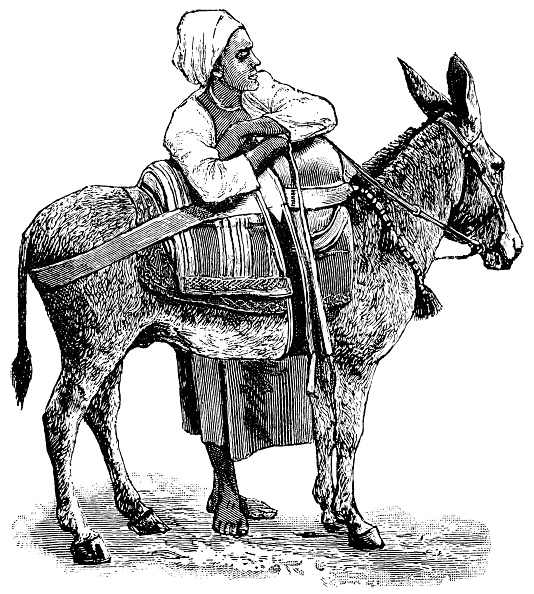em pe: (129, 12, 341, 324)
